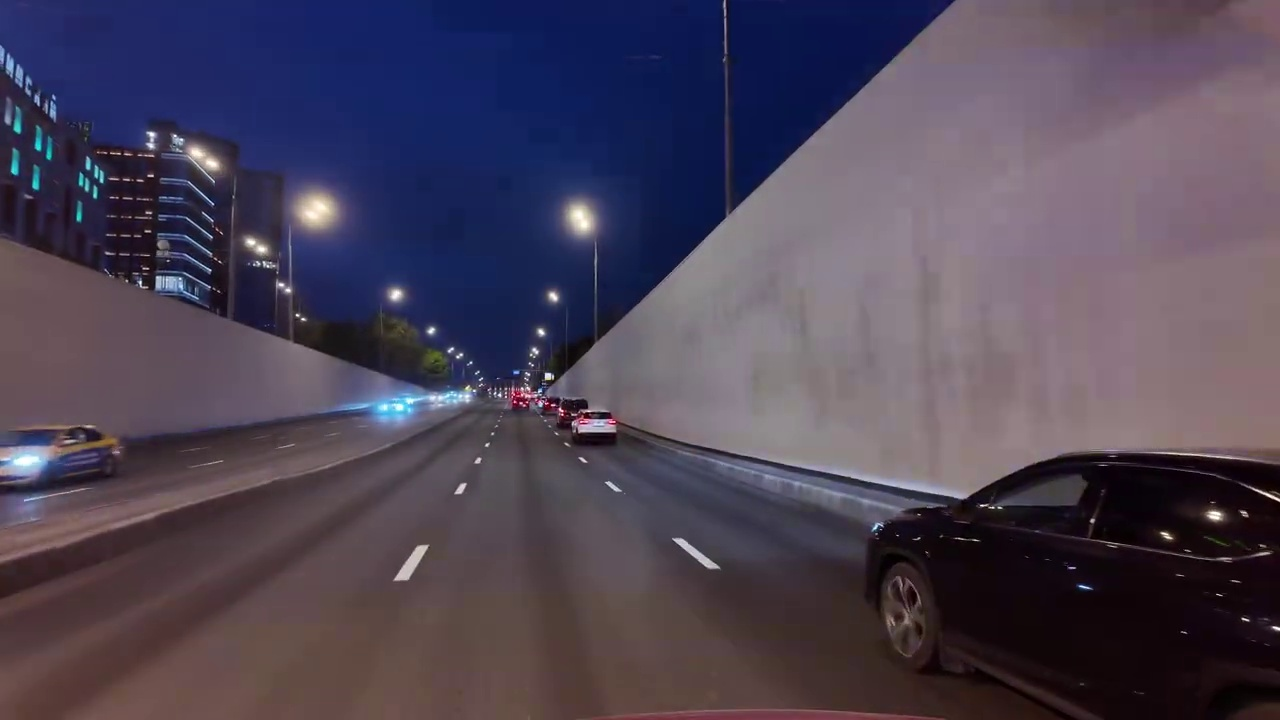acesa: (299, 194, 334, 228), (564, 202, 597, 236), (190, 144, 224, 175), (385, 283, 408, 306), (543, 286, 563, 308)
